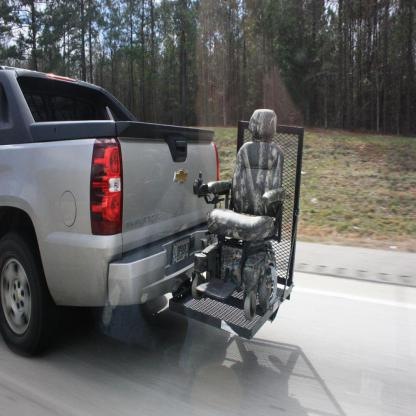Truck: (0, 67, 305, 358)
